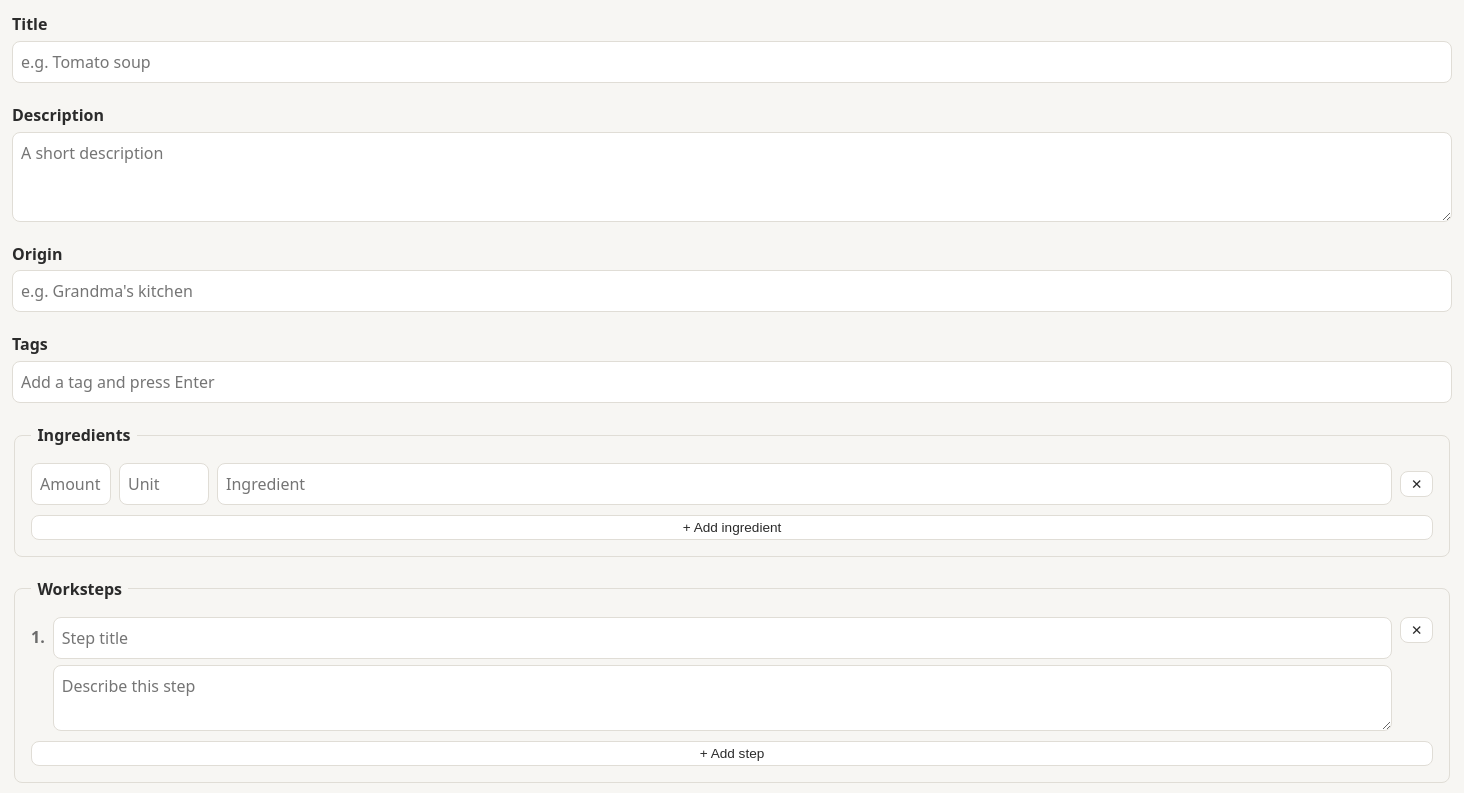
Test case: RecipeForm › can add and remove ingredient rows
The image size is (1464, 793).
expect the number of fields named "ingredient name" is 1: met, box left=217, top=463, right=1392, bottom=505
Click the button "+ Add ingredient" at (732, 527), box left=31, top=515, right=1433, bottom=540
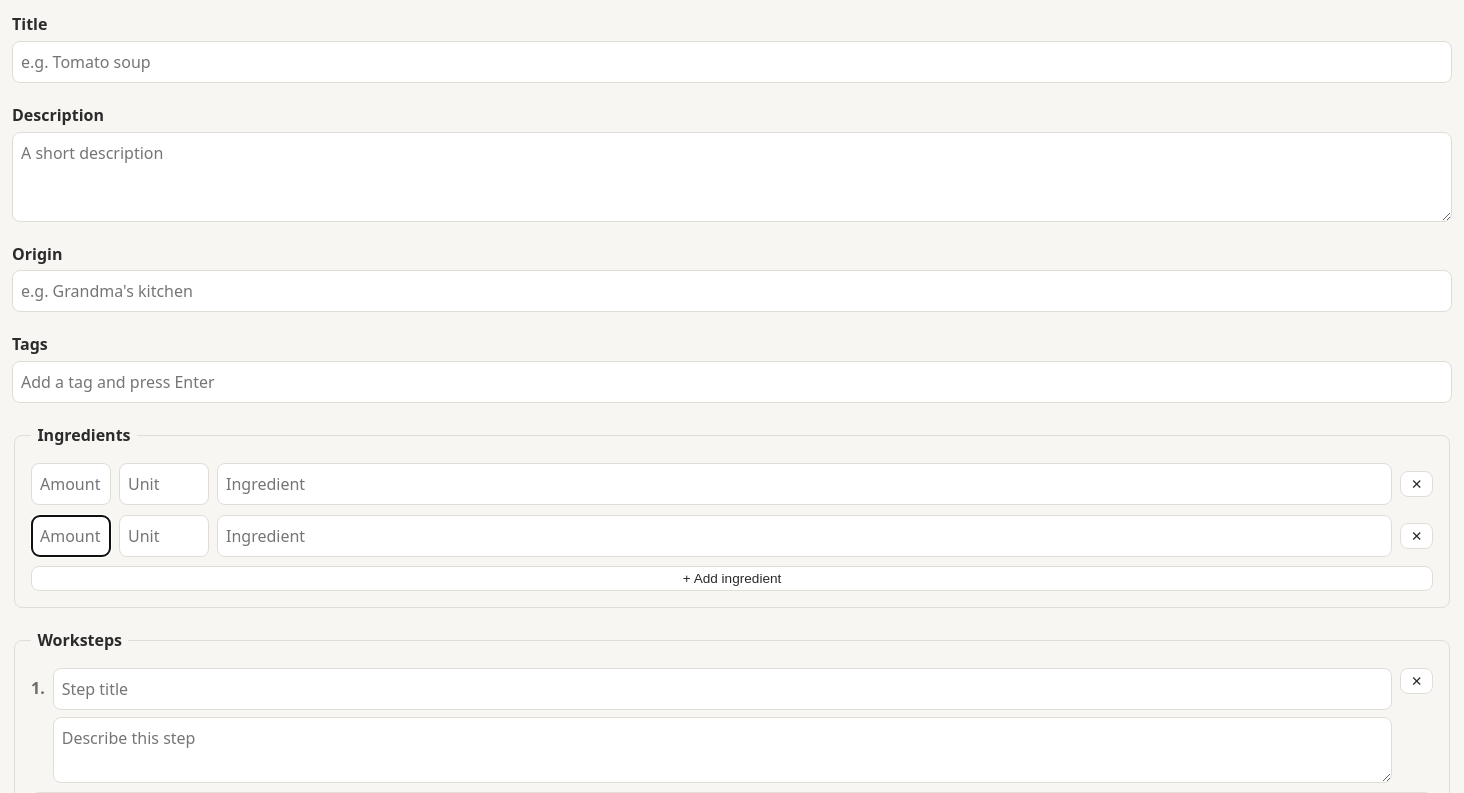
expect the number of fields named "ingredient name" is 2: met, box left=217, top=463, right=1392, bottom=505; left=217, top=515, right=1392, bottom=557
Click the button named "remove ingredient" at (1417, 484), box left=1400, top=471, right=1433, bottom=497
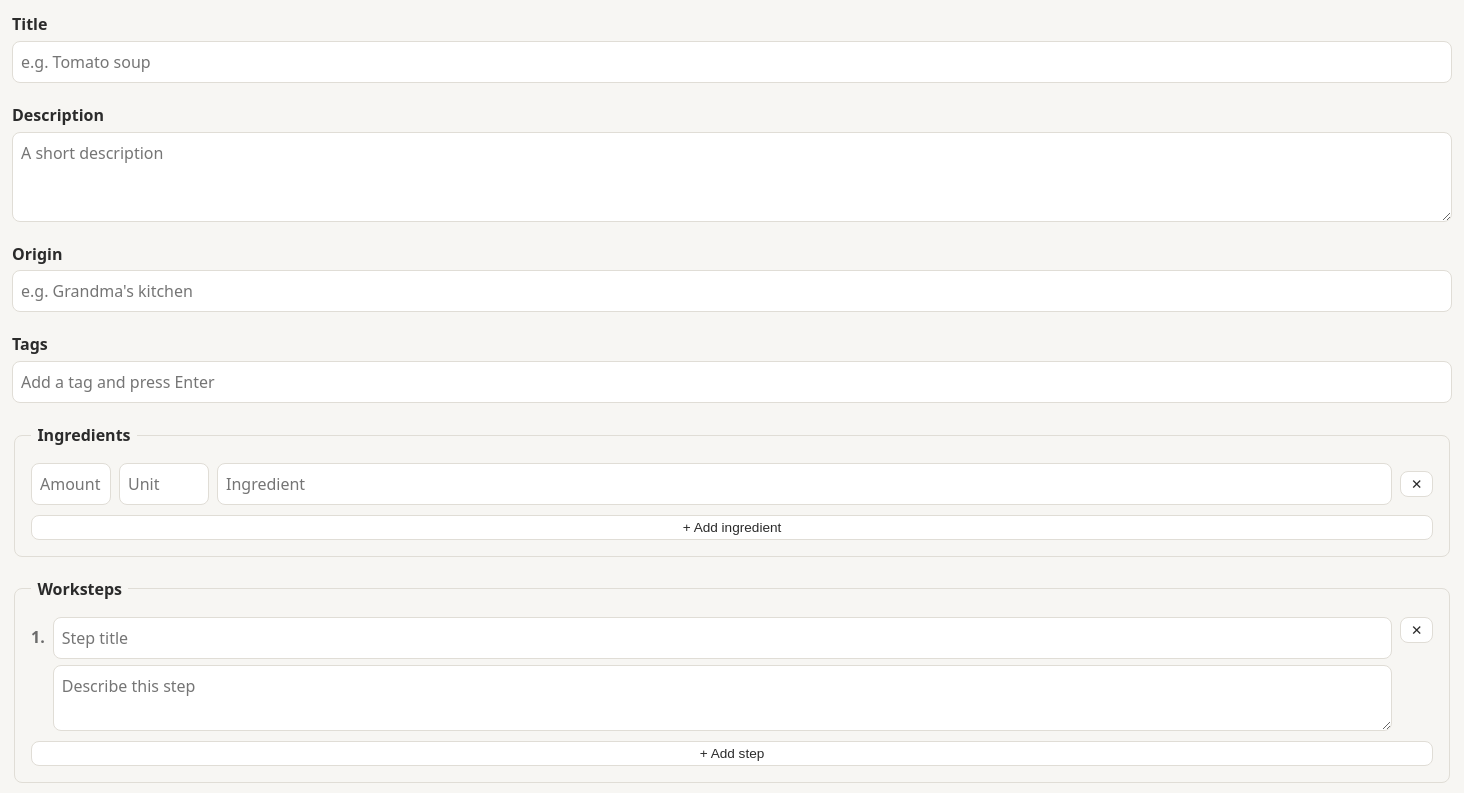
expect the number of fields named "ingredient name" is 1: met, box left=217, top=463, right=1392, bottom=505
